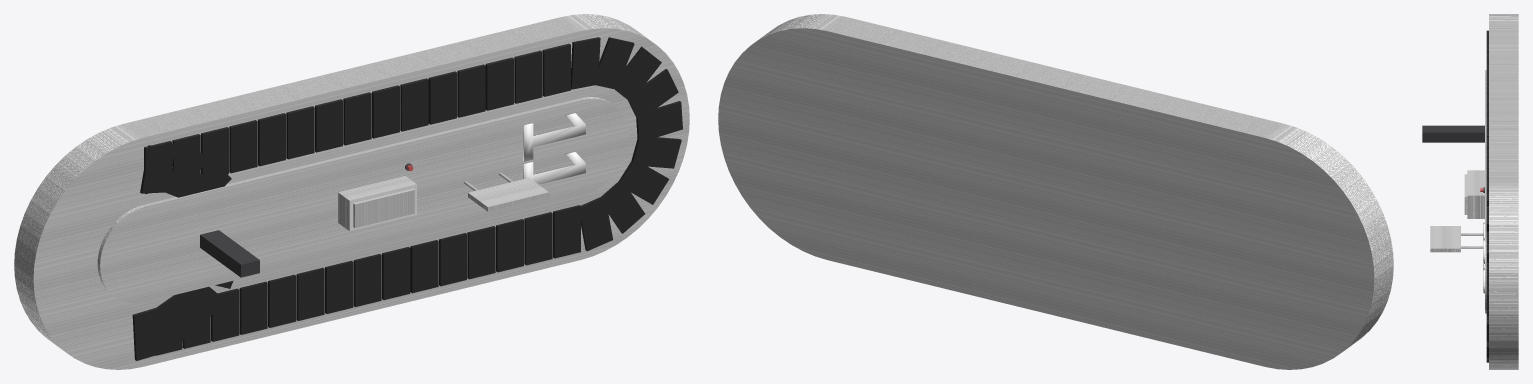
The model's file is Đảo nhận hành lý 11.glb.
3 renders of one model, left to right at view 1: azimuth 30°, elevation 25°; view 2: azimuth 150°, elevation 25°; view 3: azimuth 270°, elevation 25°, orthographic. The views are drawn at different scales.
Visible parts, largest first — view 1: conveyor_belt, frame, center_platform, service_box, number_node_11, information_screen_frame, number_sign_body; view 2: frame; view 3: frame, number_sign_body, conveyor_belt, service_box, information_screen_frame, center_platform, number_node_11.
Boxes of the visible parts, box(x1,y1,x2,y2) form: conveyor_belt: box(132, 37, 682, 360); frame: box(14, 14, 689, 369); center_platform: box(97, 97, 628, 303); service_box: box(338, 176, 416, 231); number_node_11: box(523, 113, 585, 184); information_screen_frame: box(464, 172, 549, 211); number_sign_body: box(200, 230, 259, 277); frame: box(718, 14, 1393, 369); frame: box(1489, 14, 1518, 369); number_sign_body: box(1422, 125, 1484, 142); conveyor_belt: box(1486, 30, 1488, 362); service_box: box(1464, 170, 1484, 218); information_screen_frame: box(1430, 226, 1483, 252); center_platform: box(1485, 70, 1486, 313); number_node_11: box(1483, 222, 1484, 293).
Size of the model in its own units: 18 by 6 by 3.
8 materials, 7 textured.
